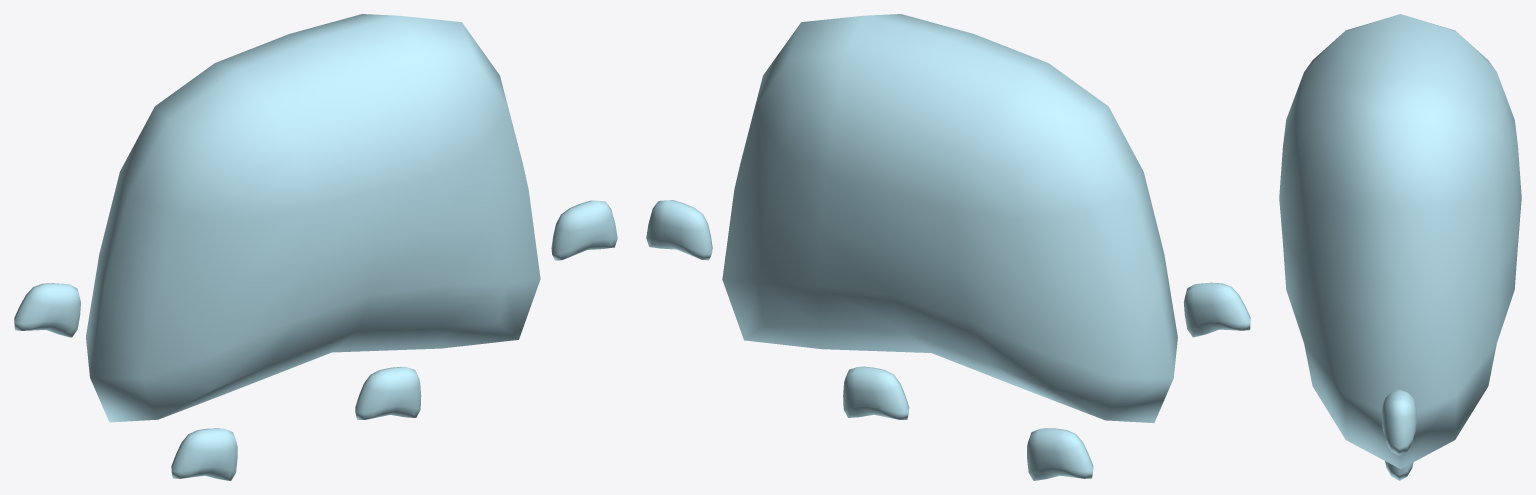
Rendered from SadAvatar.fbx.
The picture shows the model from 3 angles, left to right: view 1: azimuth 30°, elevation 25°; view 2: azimuth 150°, elevation 25°; view 3: azimuth 270°, elevation 25°; orthographic projection. The views are drawn at different scales.
Parts seen in each view (by area): view 1: sad; view 2: sad; view 3: sad.
Part boxes in pixels (x1,y1,x2,y2): sad: [14, 14, 617, 480]; sad: [646, 14, 1250, 480]; sad: [1279, 14, 1521, 480].
Bounding box in the file's own units: 62.32 × 22.17 × 41.85.
